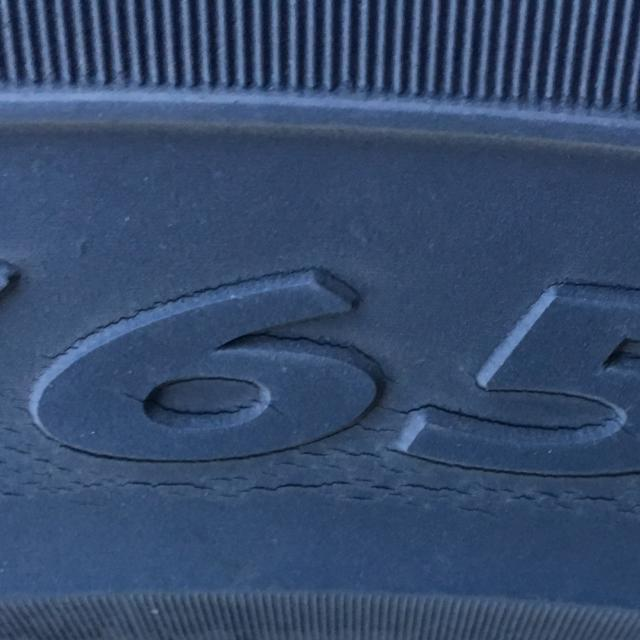Cracks: (0, 381, 640, 539)
Non-defective: (0, 0, 640, 363)
